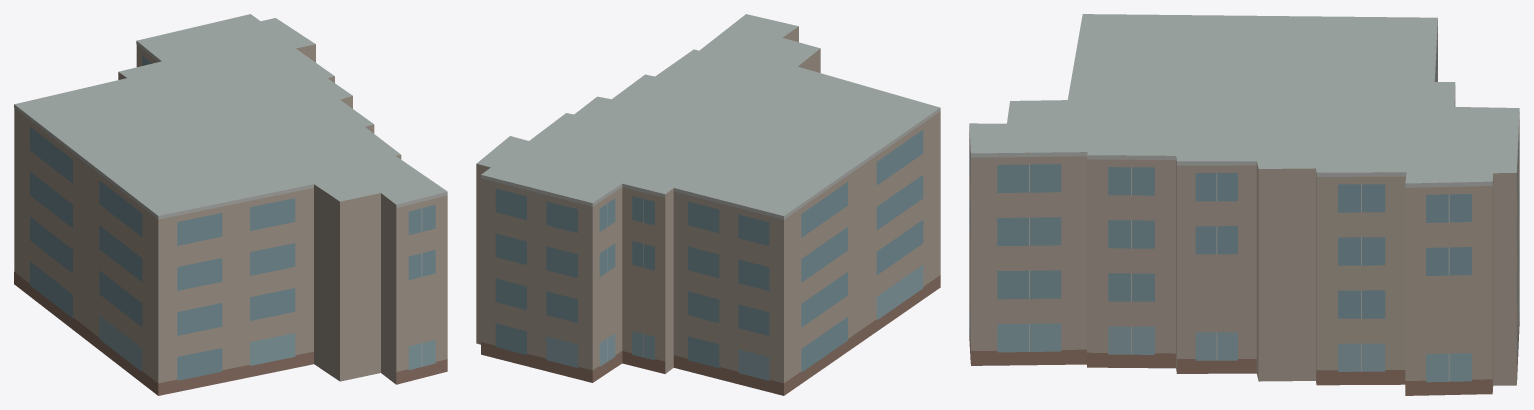
The model's file is survey-upis-32461111.glb.
3 views of the same model, side by side, from view 1: azimuth 30°, elevation 25°; view 2: azimuth 150°, elevation 25°; view 3: azimuth 270°, elevation 25° (orthographic). The views are drawn at different scales.
Parts seen in each view (by area): view 1: survey-upis-32461111.tmp; view 2: survey-upis-32461111.tmp; view 3: survey-upis-32461111.tmp.
Part boxes in pixels (box(x1,y1,x2,y2)): survey-upis-32461111.tmp: box(14, 14, 447, 395); survey-upis-32461111.tmp: box(476, 14, 940, 395); survey-upis-32461111.tmp: box(969, 14, 1519, 395).
Size of the model in its own units: 20.88 by 12.2 by 28.65.
